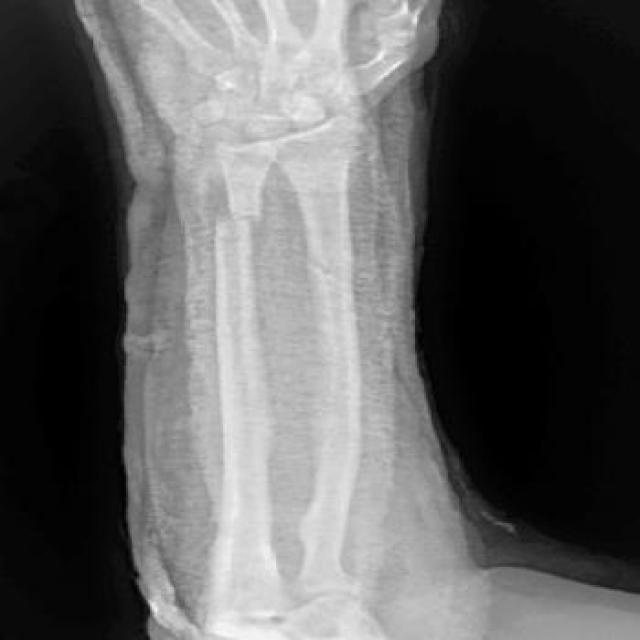Fracture: (289, 241, 378, 298), (189, 198, 286, 242)
